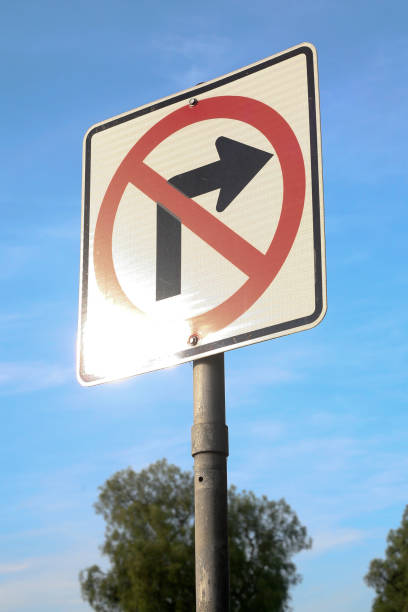saga_donulmez: (86, 90, 307, 347)
